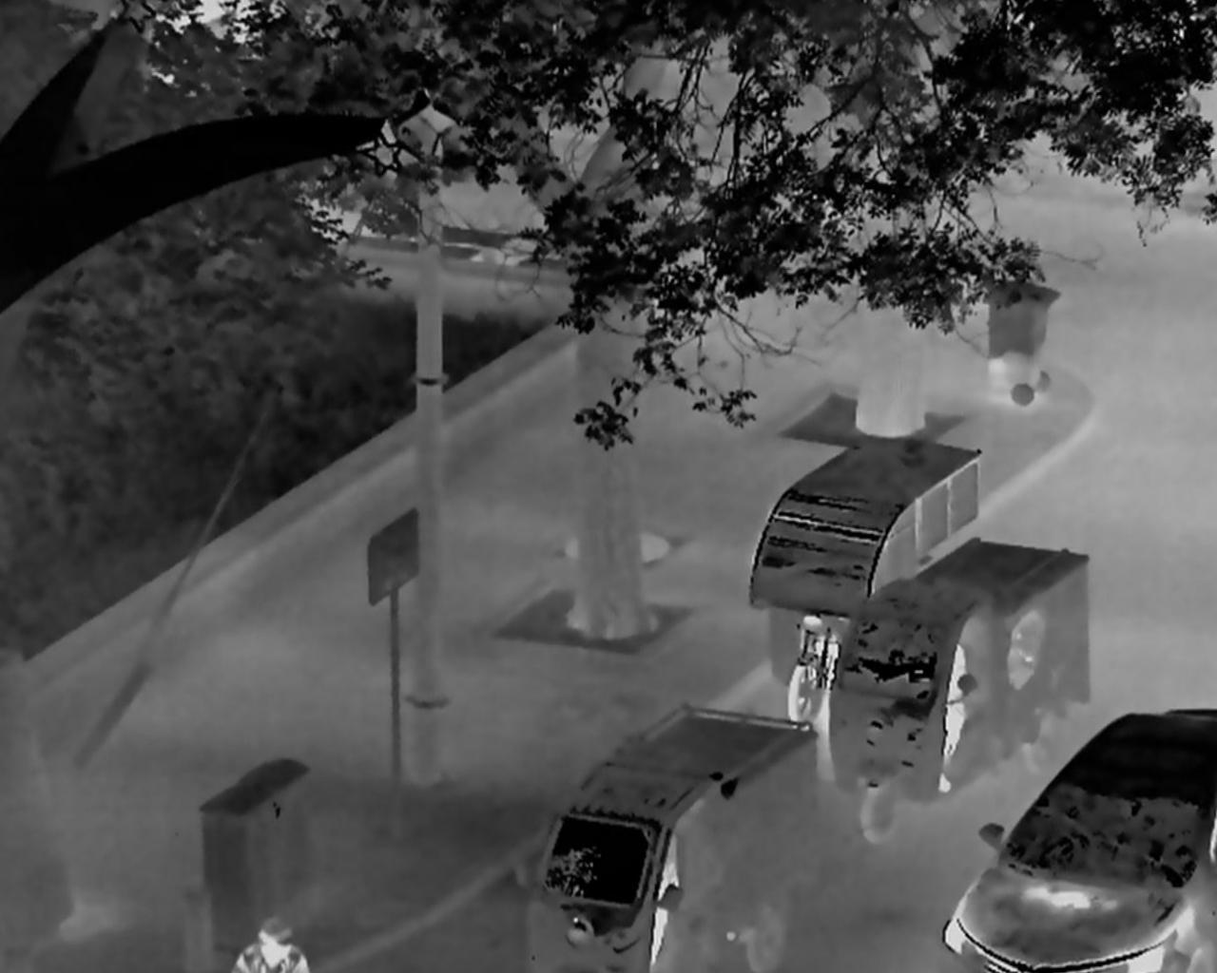person: (647, 829, 681, 972), (937, 640, 967, 793), (233, 915, 310, 973)
